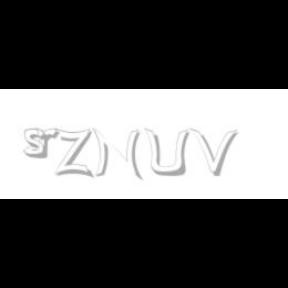N: (92, 128, 140, 180)
U: (144, 128, 188, 178)
V: (190, 128, 238, 176)
Z: (54, 128, 92, 178)
r: (36, 128, 62, 158)
s: (24, 128, 52, 160)
